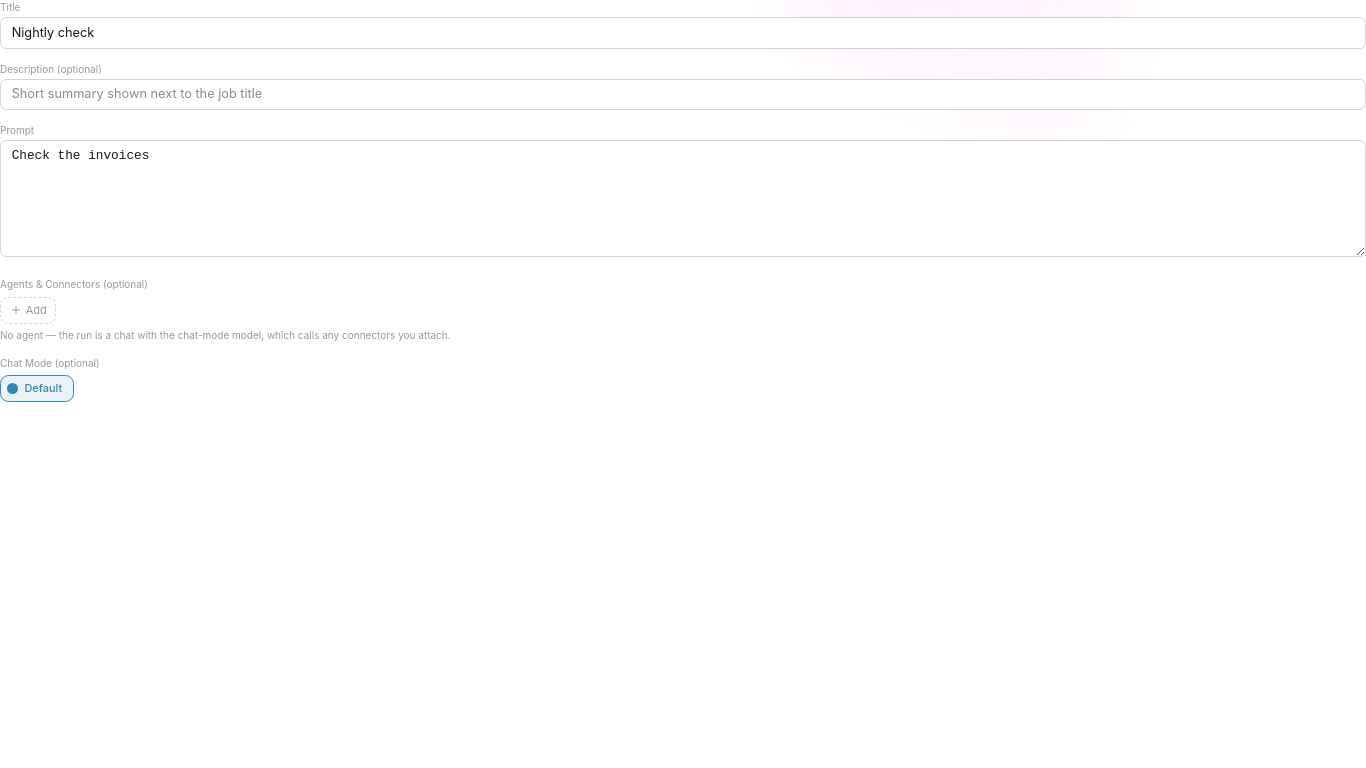
Test case: Jobs agent picker › still withholds a folder agent the user has switched off
Click the button "Add".
click(28, 310)  # box [0,296,56,324]
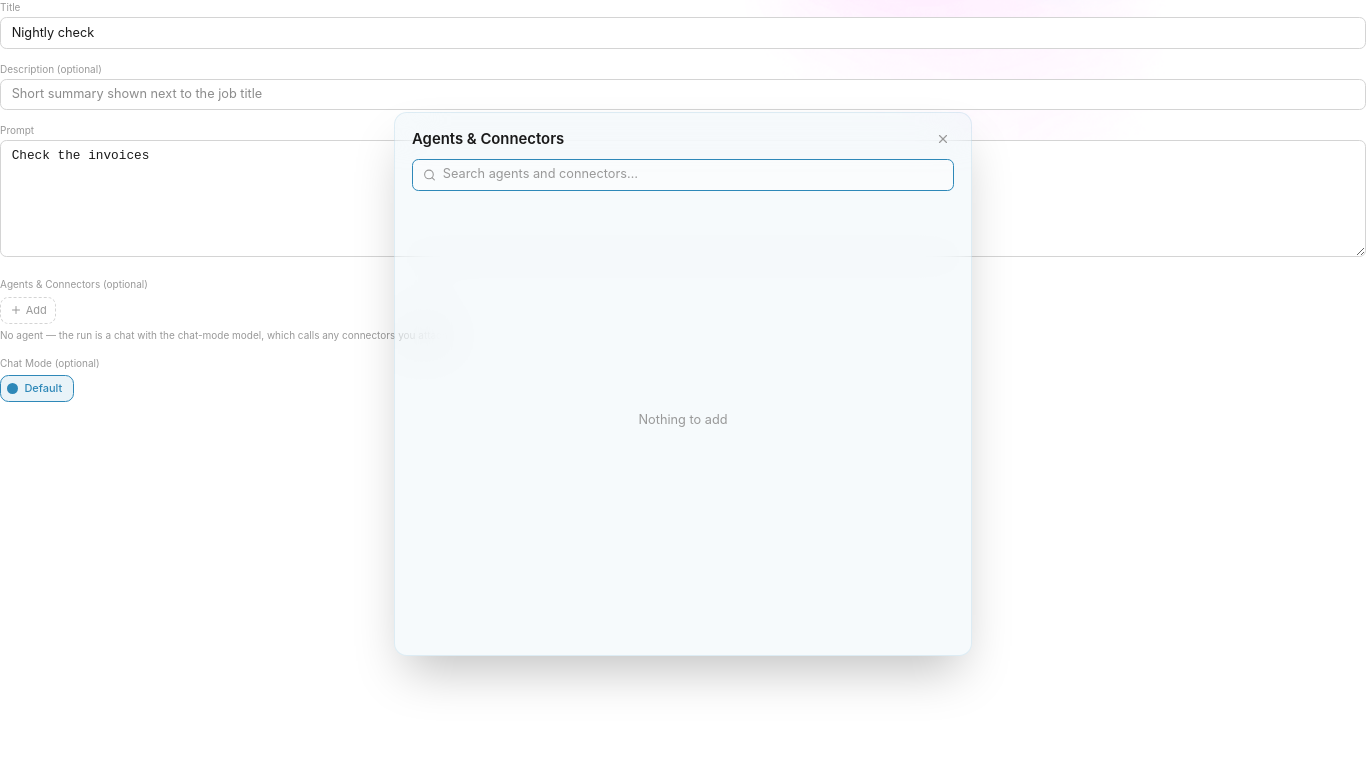
Now the text "Nothing to add" is shown, box [638,412,728,427]
